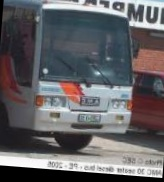bus: (0, 0, 143, 154)
